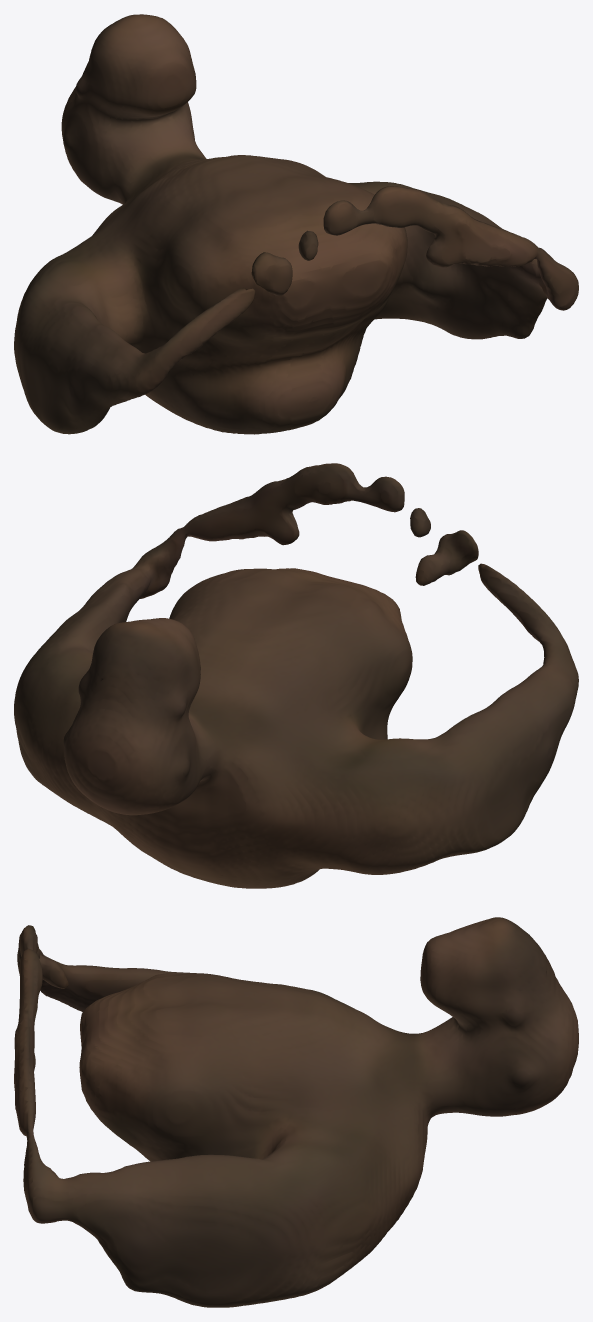
3 views of the same model, one above another, from view 1: azimuth 30°, elevation 25°; view 2: azimuth 150°, elevation 25°; view 3: azimuth 270°, elevation 25° (orthographic). The views are drawn at different scales.
Visible parts, largest first — view 1: plyFile; view 2: plyFile; view 3: plyFile.
Boxes of the visible parts, x1,y1,x2,y2 form: plyFile: (14, 14, 578, 434); plyFile: (14, 463, 578, 888); plyFile: (14, 917, 578, 1307).
Bounding box in the file's own units: 197 × 131 × 198.
